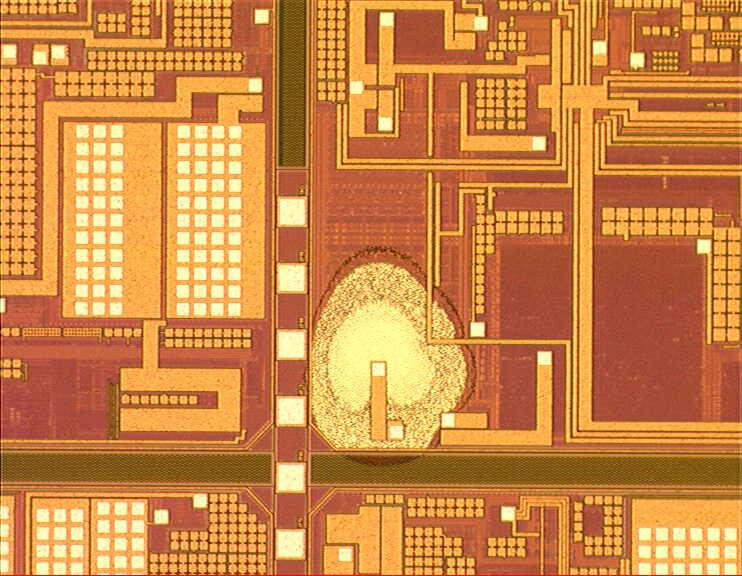BLOCK ETCH: (300, 242, 484, 474)
